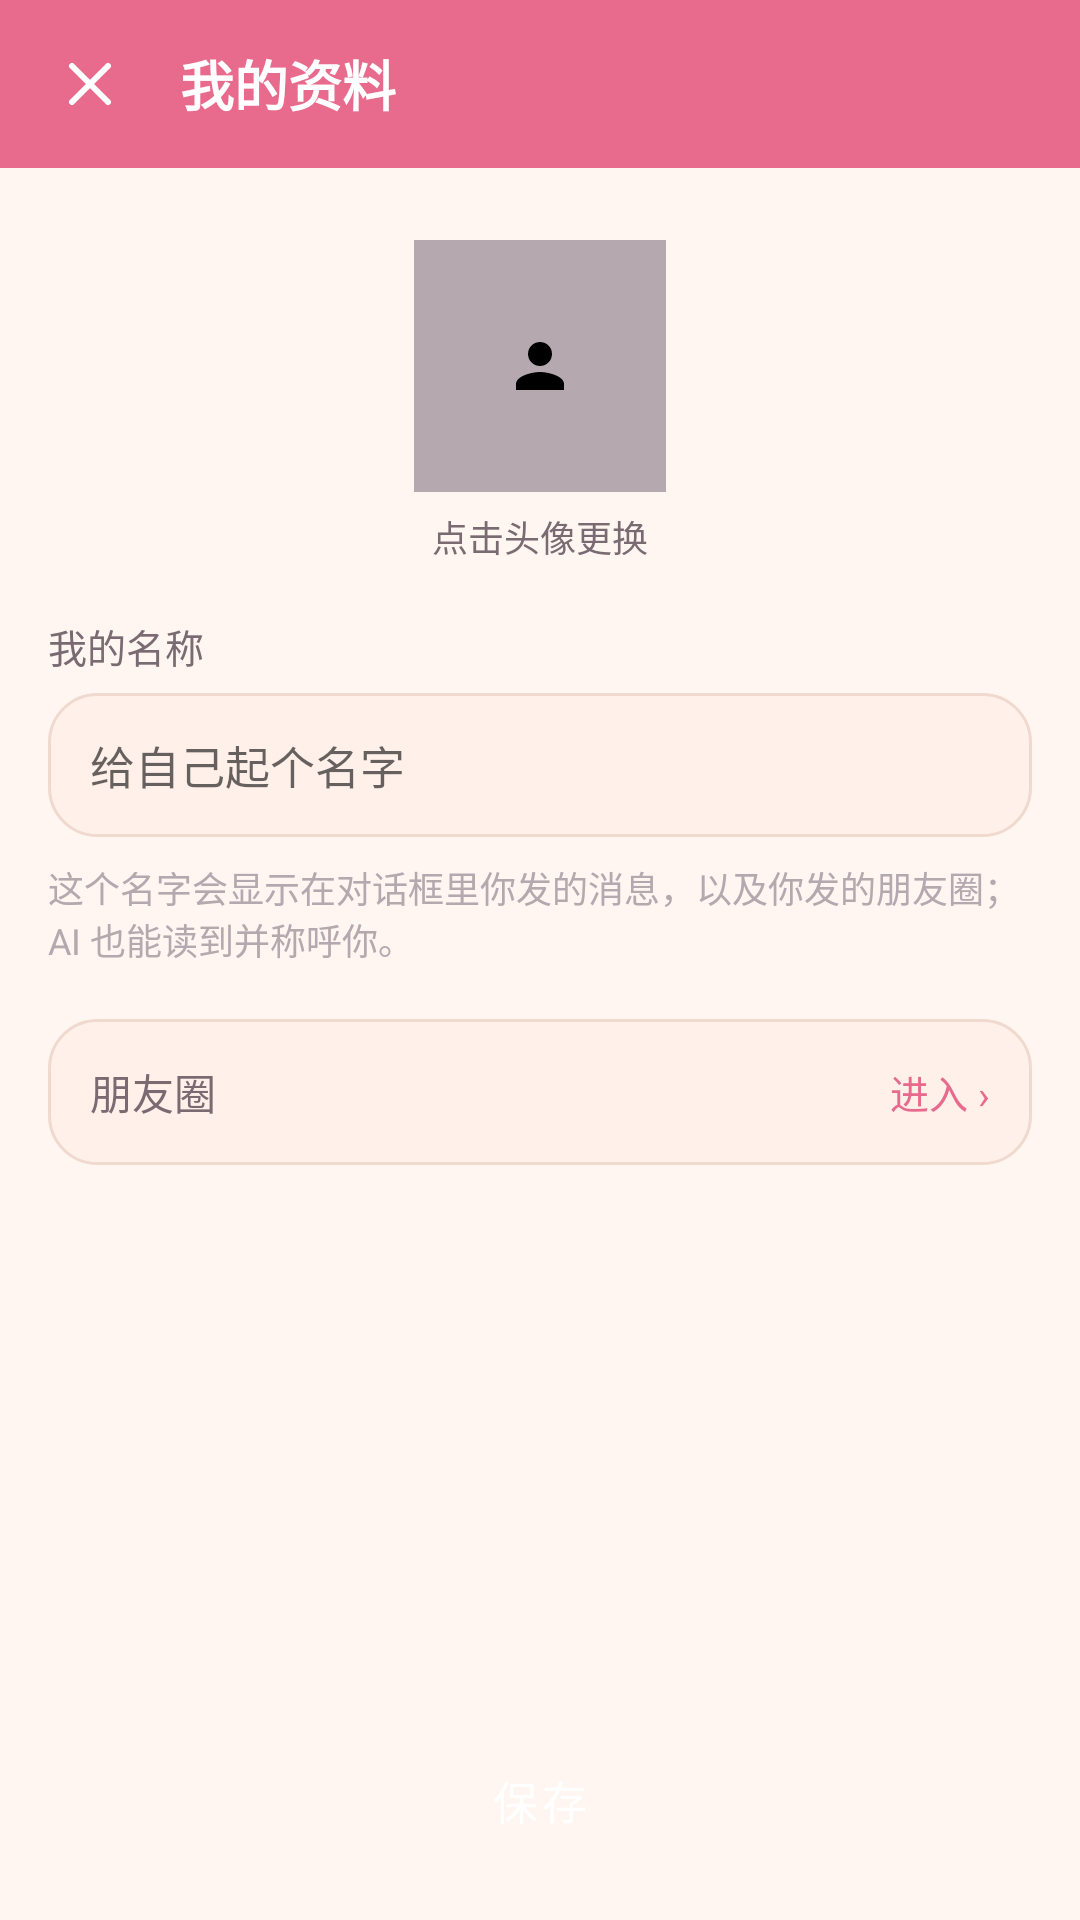

Where to tap for icons on this 1080 × 1920 app screen, as (x=x, y=y):
返回: (x=90, y=84)
